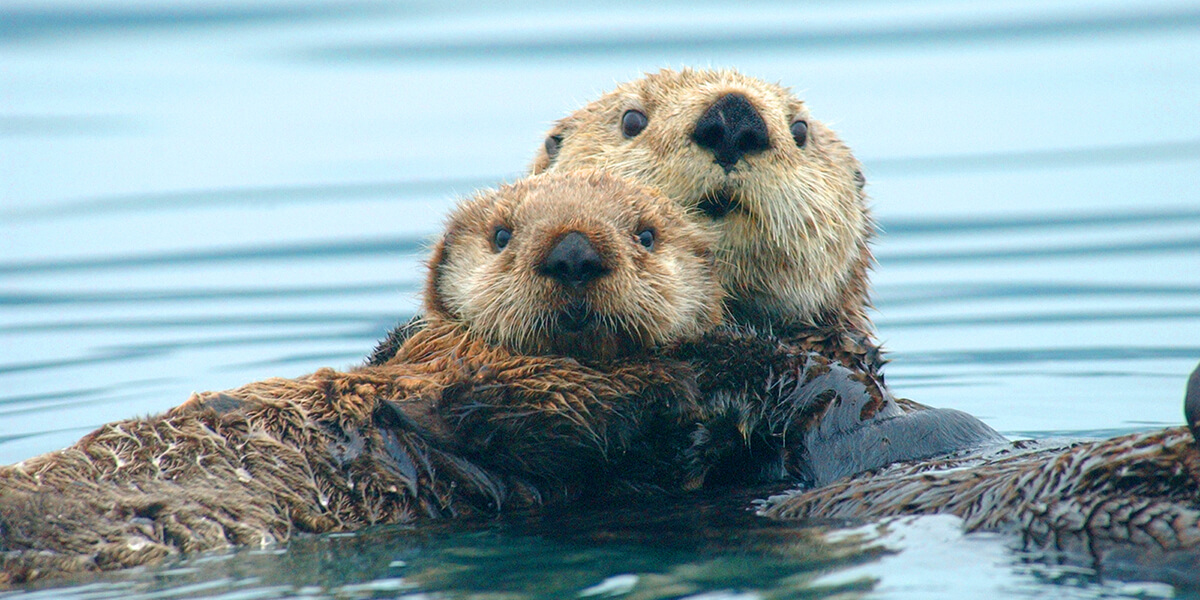otter: (394, 11, 1067, 555)
